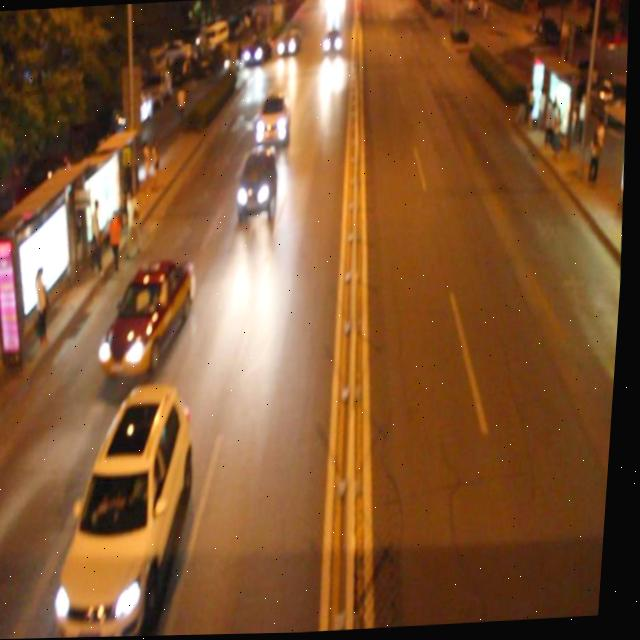car: (55, 379, 205, 638), (99, 258, 205, 381), (236, 146, 280, 214), (254, 91, 291, 146), (275, 29, 302, 60), (321, 25, 343, 56)
